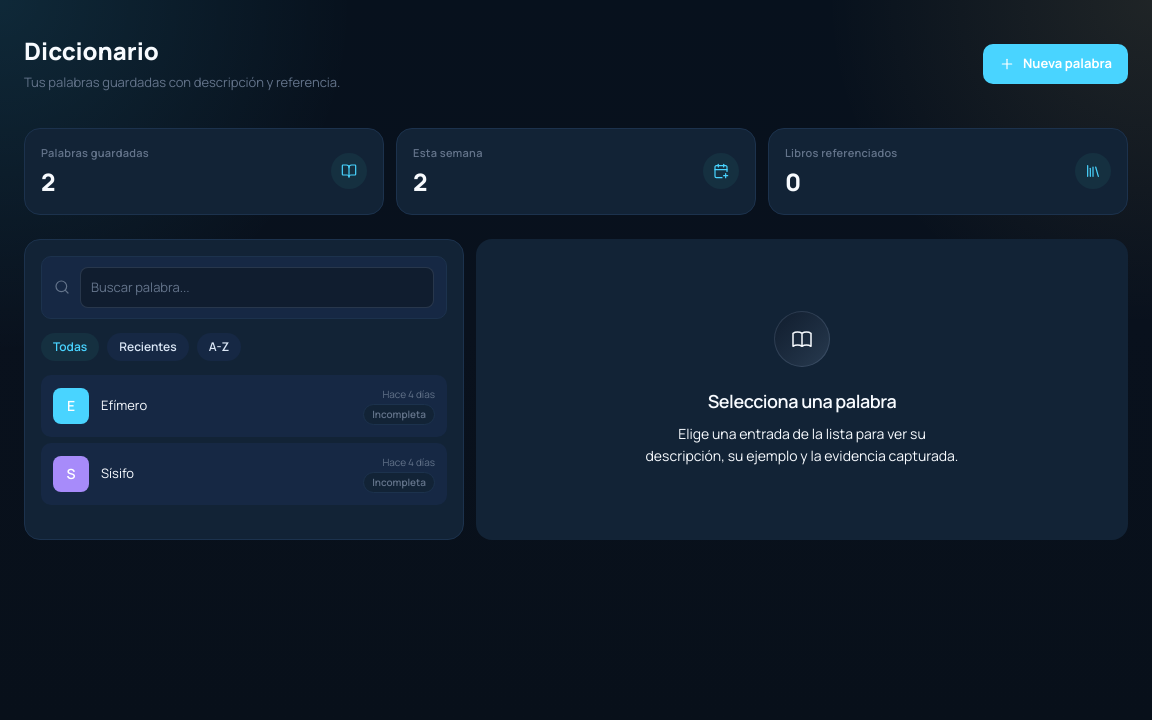
DictionaryView shell (4A) › filters by the search field and shows the empty result state
The width and height of the screenshot is (1152, 720).
In the field with placeholder "Buscar palabra...": (257, 287) [80,266,434,308], type "Efím"
Wait 300 ms
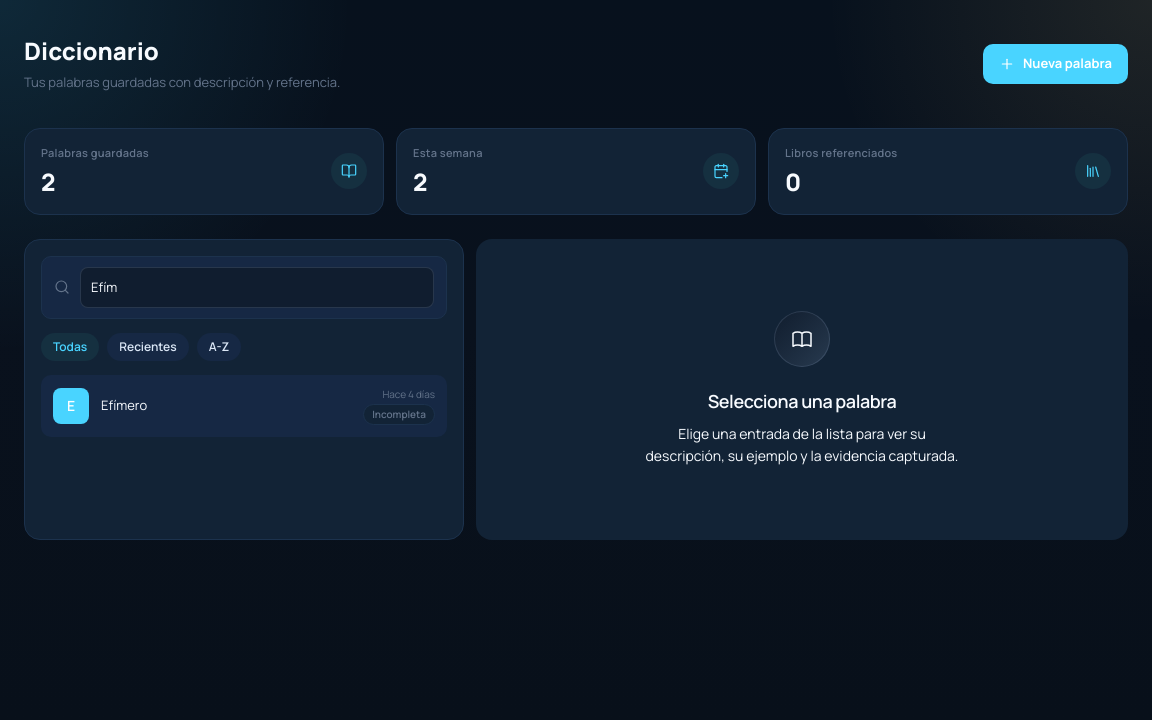
Expected: the text "Efímero" is shown, [101,396,147,414]
Result: the button "Sísifo" is gone
Replace the text in the field with placeholder "Buscar palabra..." with "zzz": (257, 287) [80,266,434,308]
Wait 300 ms
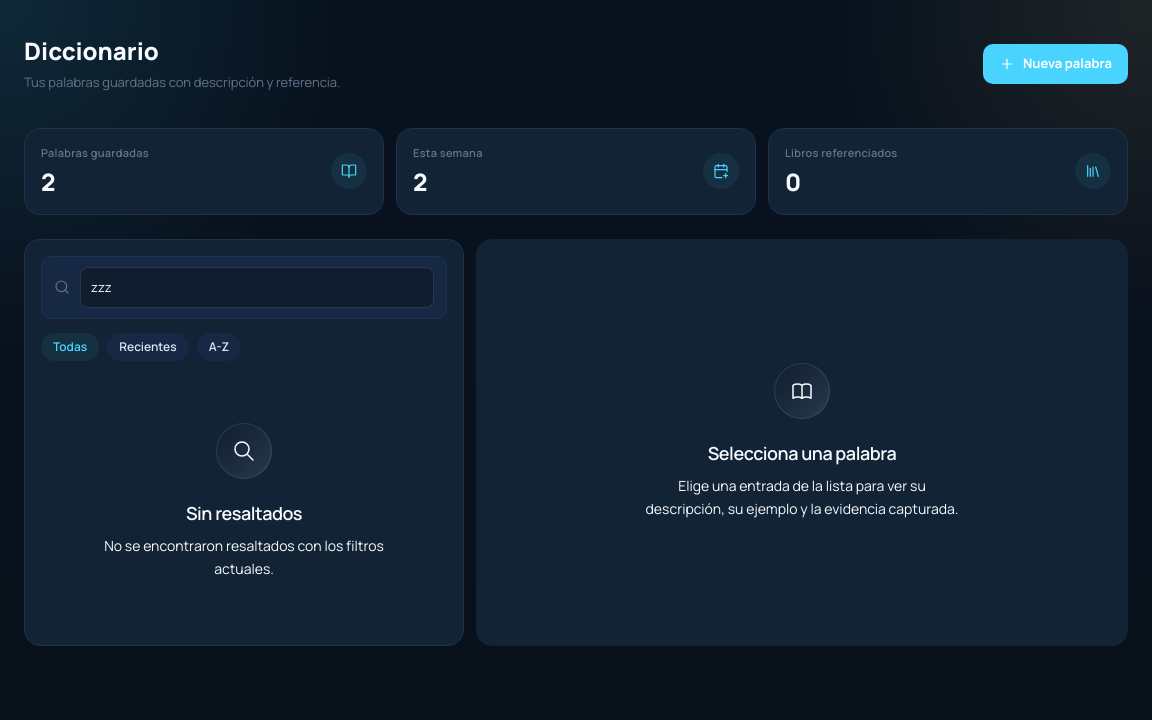
Result: the list with test id "dictionary-list" is gone
Result: the heading "Sin resaltados" is shown at [186,499,302,527]
